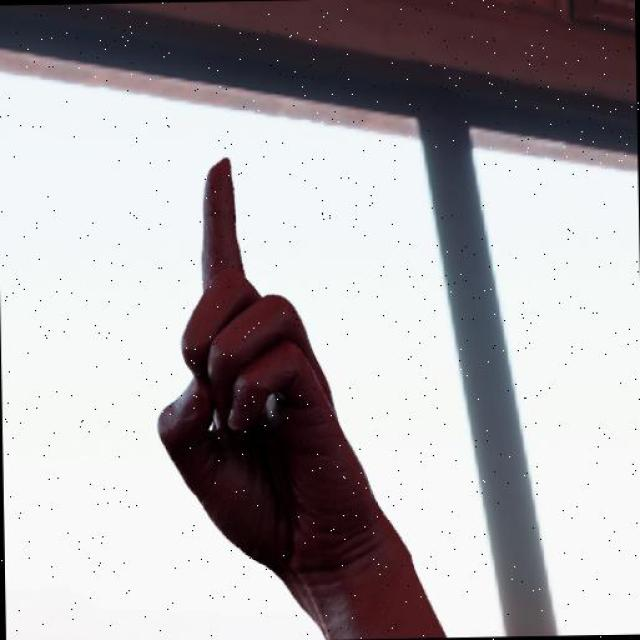D: (144, 150, 432, 600)
